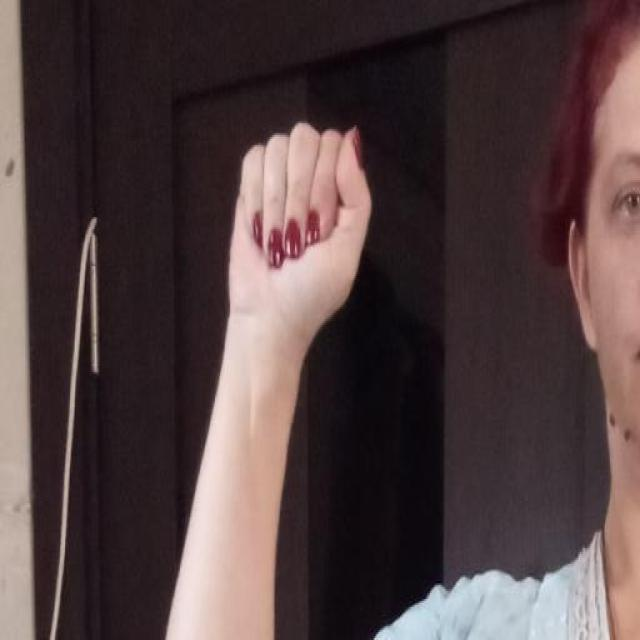hand: (226, 120, 372, 358)
